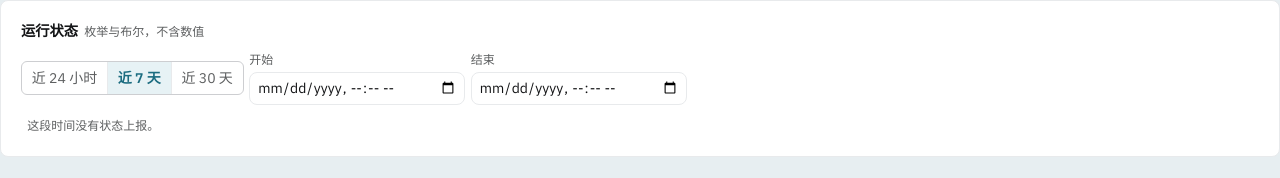
Scenario: StatusBarPanel › rejects a manual range longer than 90 days
The width and height of the screenshot is (1280, 178).
Type "2026-01-01T00:00" into the field labelled "开始".
click(357, 88); type("2026-01-01T00:00")  # box [249,72,465,105]
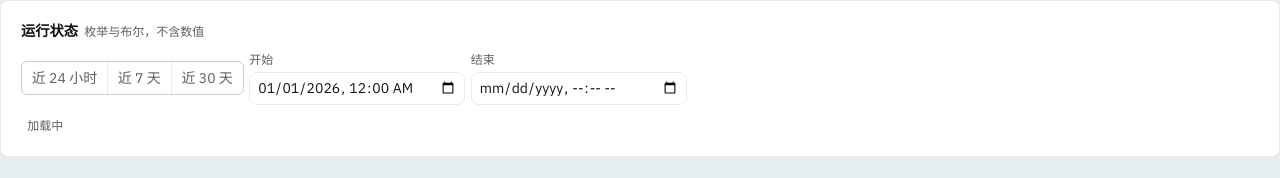
Type "2026-06-01T00:00" into the field labelled "结束".
click(579, 88); type("2026-06-01T00:00")  # box [471,72,687,105]
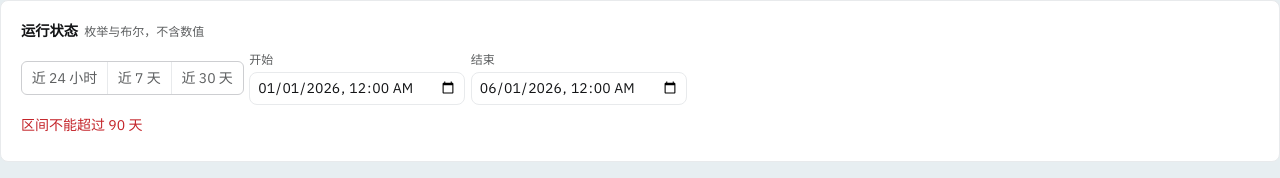
Expected: the text "这段时间没有状态上报。" is not shown
Expected: the text "区间不能超过 90 天" is shown, [21,116,142,134]
